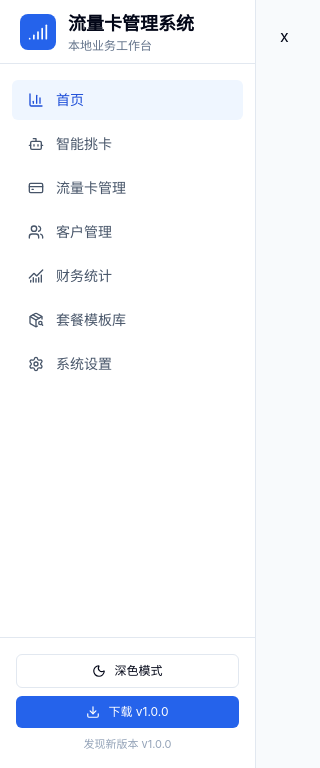
Test: Layout › shows the download error message on failure
Click the button "下载 v1.0.0" at [128, 712], box [16, 696, 239, 728]
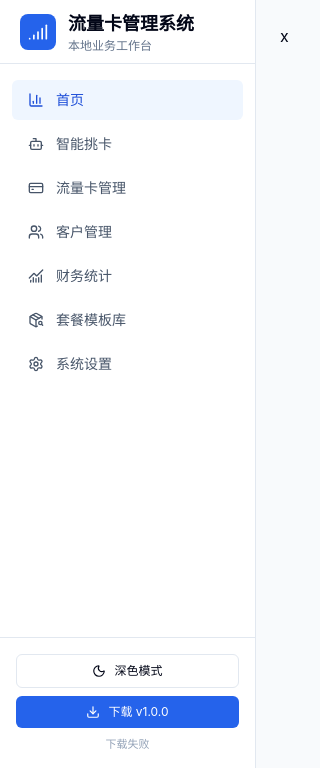
Check: the text "下载失败" is shown, box [106, 737, 150, 751]
